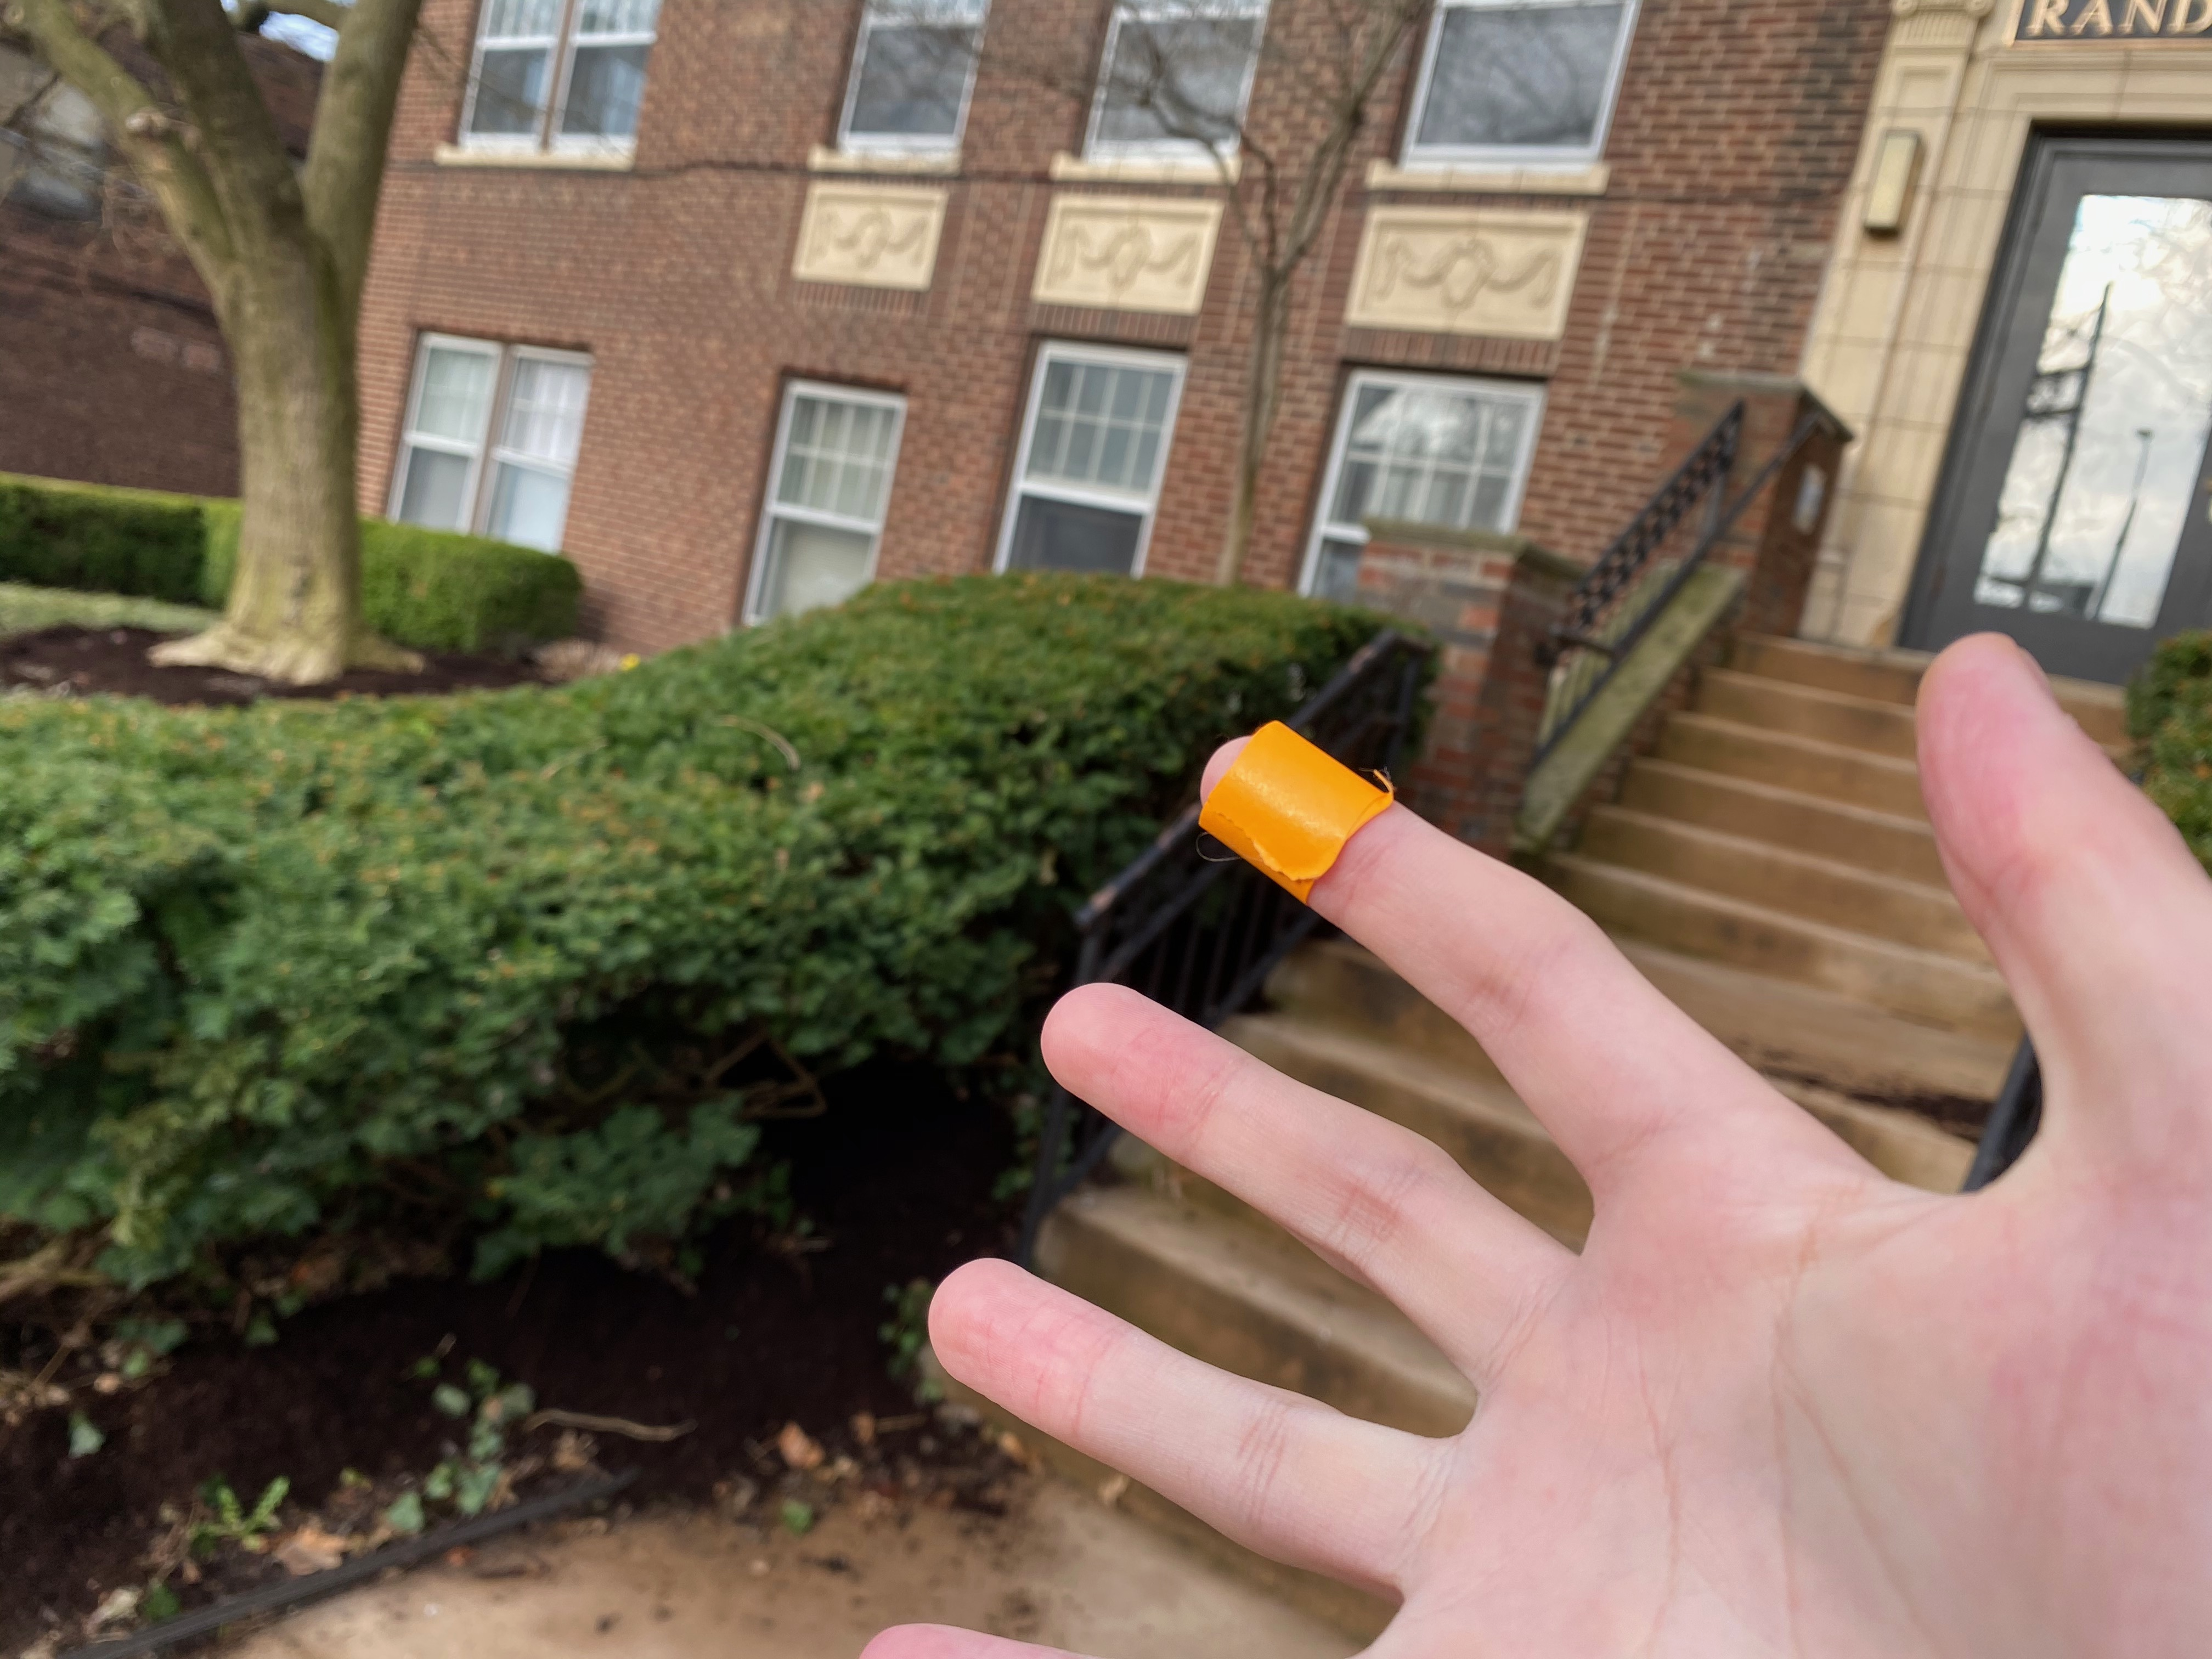fingertip: (1132, 704, 1451, 962)
